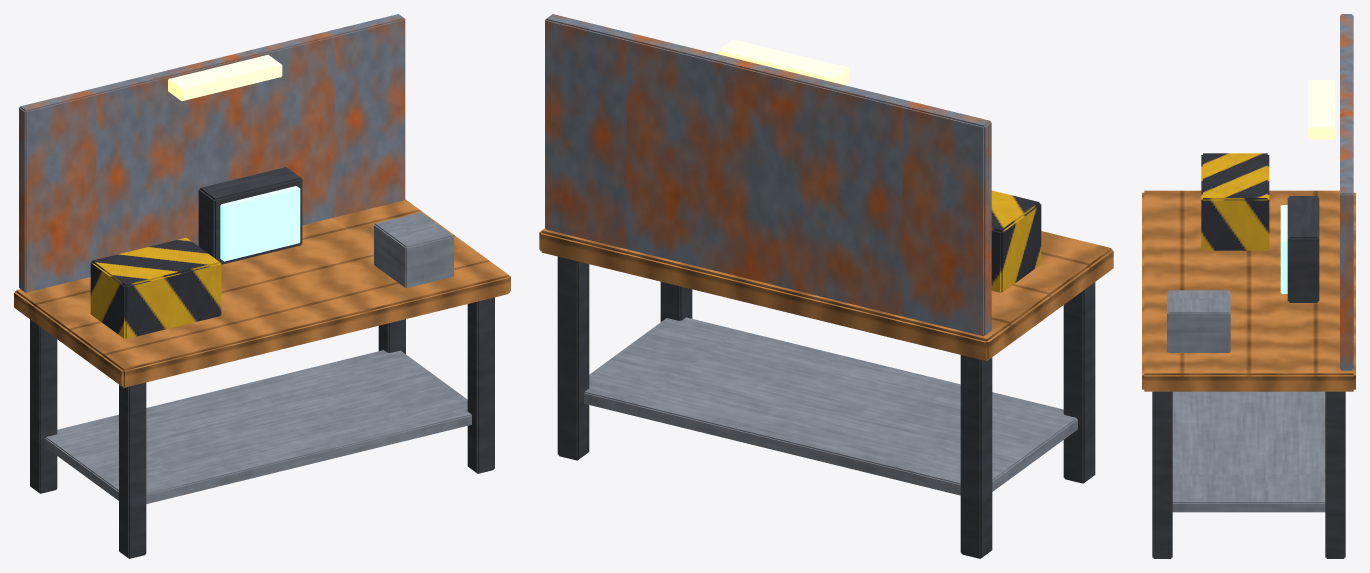
The model's file is fac_workbench.glb.
3 views of the same model, side by side, from view 1: azimuth 30°, elevation 25°; view 2: azimuth 150°, elevation 25°; view 3: azimuth 270°, elevation 25° (orthographic). The views are drawn at different scales.
Visible parts, largest first — view 1: fac_workbench; view 2: fac_workbench; view 3: fac_workbench.
Part boxes in pixels (<box>): fac_workbench: <box>14,14,510,558</box>; fac_workbench: <box>539,14,1113,558</box>; fac_workbench: <box>1142,14,1355,558</box>.
Bounding box in the file's own units: 1.92 × 1.79 × 0.94.
7 materials, 5 textured.
